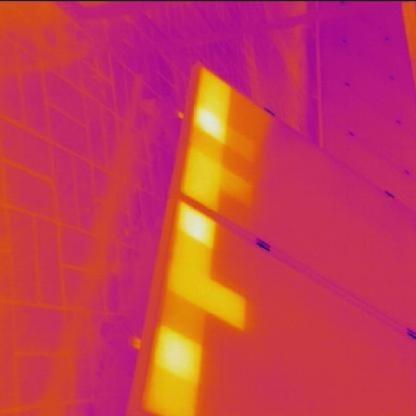anomaly: (145, 209, 240, 413), (181, 81, 242, 194)
